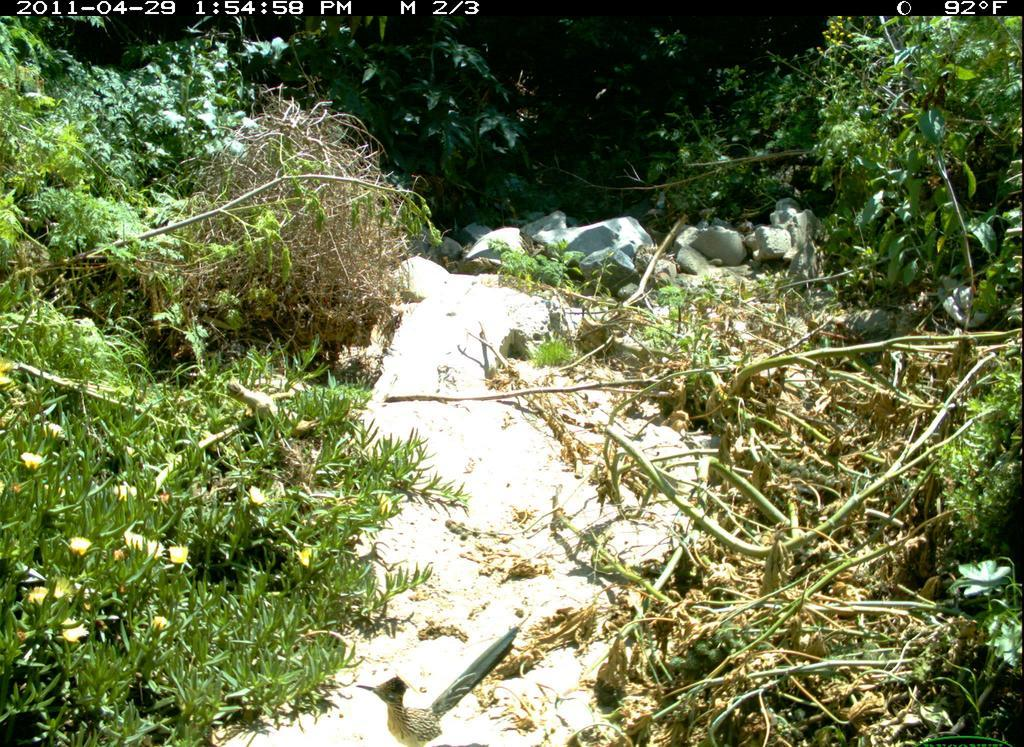bird: (349, 628, 543, 747)
